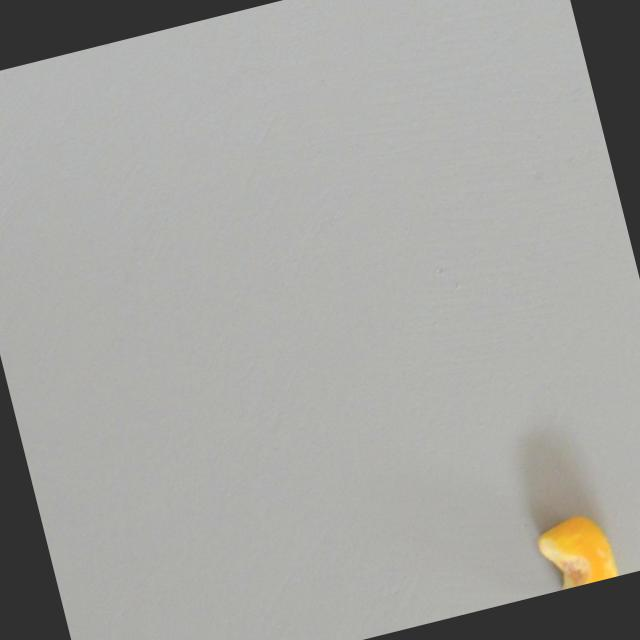dañado: (511, 495, 636, 597)
